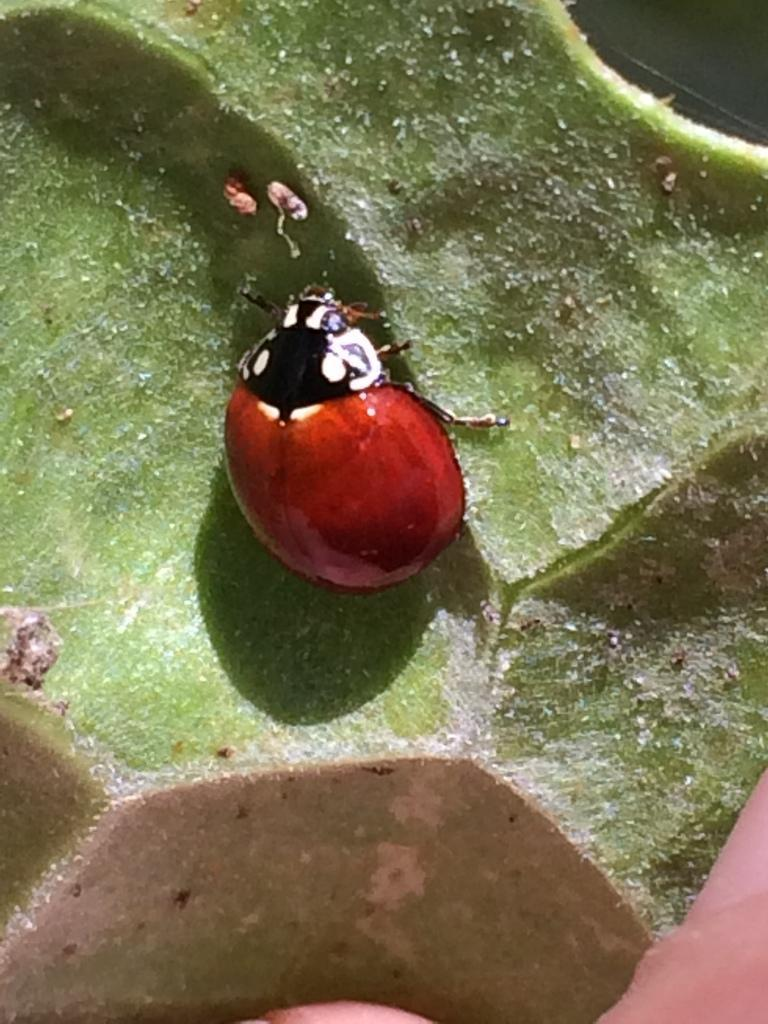ladybug: (224, 279, 516, 599)
